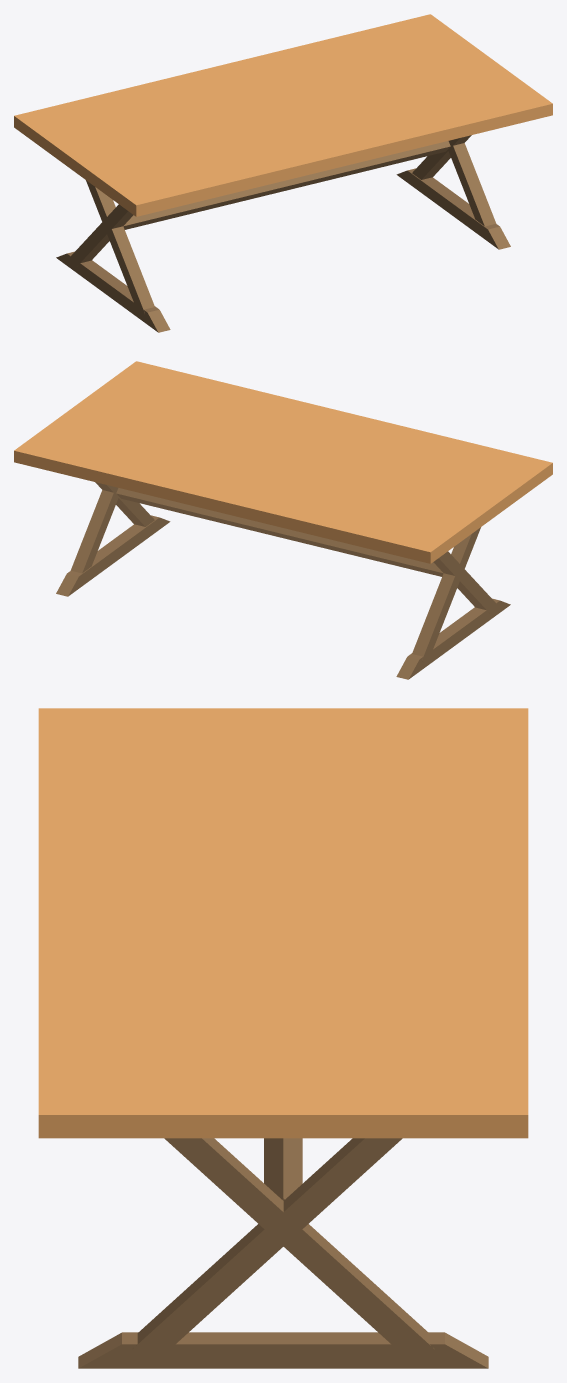
Rendered from Table.fbx.
3 renders of one model, top to bottom at view 1: azimuth 30°, elevation 25°; view 2: azimuth 150°, elevation 25°; view 3: azimuth 270°, elevation 25°, orthographic. The views are drawn at different scales.
Parts seen in each view (by area): view 1: Table; view 2: Table; view 3: Table.
Boxes of the visible parts, x1,y1,x2,y2 form: Table: (14, 14, 552, 332); Table: (14, 361, 552, 679); Table: (38, 708, 528, 1368).
Bounding box in the file's own units: 200 × 65.37 × 102.
